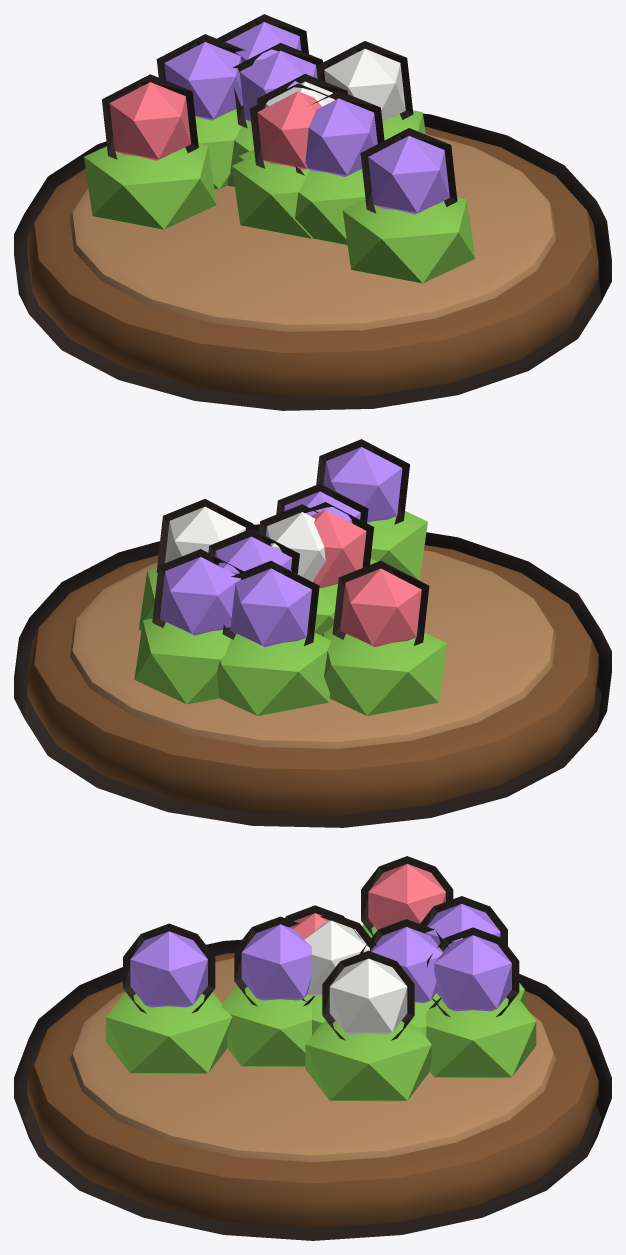
The model's file is FlowerBed.fbx.
3 renders of one model, top to bottom at view 1: azimuth 30°, elevation 25°; view 2: azimuth 150°, elevation 25°; view 3: azimuth 270°, elevation 25°, orthographic.
Visible parts, largest first — view 1: PR_FlowerBed_WoodDark, PR_FlowerBed_Dirt, PR_FlowerBed_Leaf2, PR_FlowerBed_Outline, PR_FlowerBed_Flower3, PR_FlowerBed_Flower1, PR_FlowerBed_White; view 2: PR_FlowerBed_WoodDark, PR_FlowerBed_Dirt, PR_FlowerBed_Outline, PR_FlowerBed_Leaf2, PR_FlowerBed_Flower3, PR_FlowerBed_Flower1, PR_FlowerBed_White; view 3: PR_FlowerBed_WoodDark, PR_FlowerBed_Dirt, PR_FlowerBed_Leaf2, PR_FlowerBed_Outline, PR_FlowerBed_Flower3, PR_FlowerBed_White, PR_FlowerBed_Flower1.
Boxes of the visible parts, left/top/right/bottom form: PR_FlowerBed_WoodDark: left=27, top=126, right=598, bottom=397; PR_FlowerBed_Dirt: left=70, top=134, right=555, bottom=331; PR_FlowerBed_Leaf2: left=84, top=109, right=475, bottom=283; PR_FlowerBed_Outline: left=14, top=14, right=611, bottom=410; PR_FlowerBed_Flower3: left=164, top=22, right=449, bottom=214; PR_FlowerBed_Flower1: left=109, top=82, right=321, bottom=169; PR_FlowerBed_White: left=265, top=49, right=405, bottom=121; PR_FlowerBed_WoodDark: left=27, top=545, right=598, bottom=814; PR_FlowerBed_Dirt: left=70, top=550, right=555, bottom=748; PR_FlowerBed_Outline: left=14, top=439, right=611, bottom=827; PR_FlowerBed_Leaf2: left=134, top=511, right=447, bottom=715; PR_FlowerBed_Flower3: left=160, top=447, right=402, bottom=646; PR_FlowerBed_Flower1: left=311, top=509, right=421, bottom=646; PR_FlowerBed_White: left=165, top=506, right=325, bottom=582; PR_FlowerBed_WoodDark: left=27, top=953, right=598, bottom=1227; PR_FlowerBed_Dirt: left=70, top=958, right=555, bottom=1162; PR_FlowerBed_Leaf2: left=106, top=924, right=536, bottom=1101; PR_FlowerBed_Outline: left=14, top=856, right=611, bottom=1240; PR_FlowerBed_Flower3: left=130, top=904, right=511, bottom=1011; PR_FlowerBed_White: left=304, top=920, right=407, bottom=1034; PR_FlowerBed_Flower1: left=289, top=864, right=445, bottom=938.
Size of the model in its own units: 2.09 by 0.8369 by 2.09.
